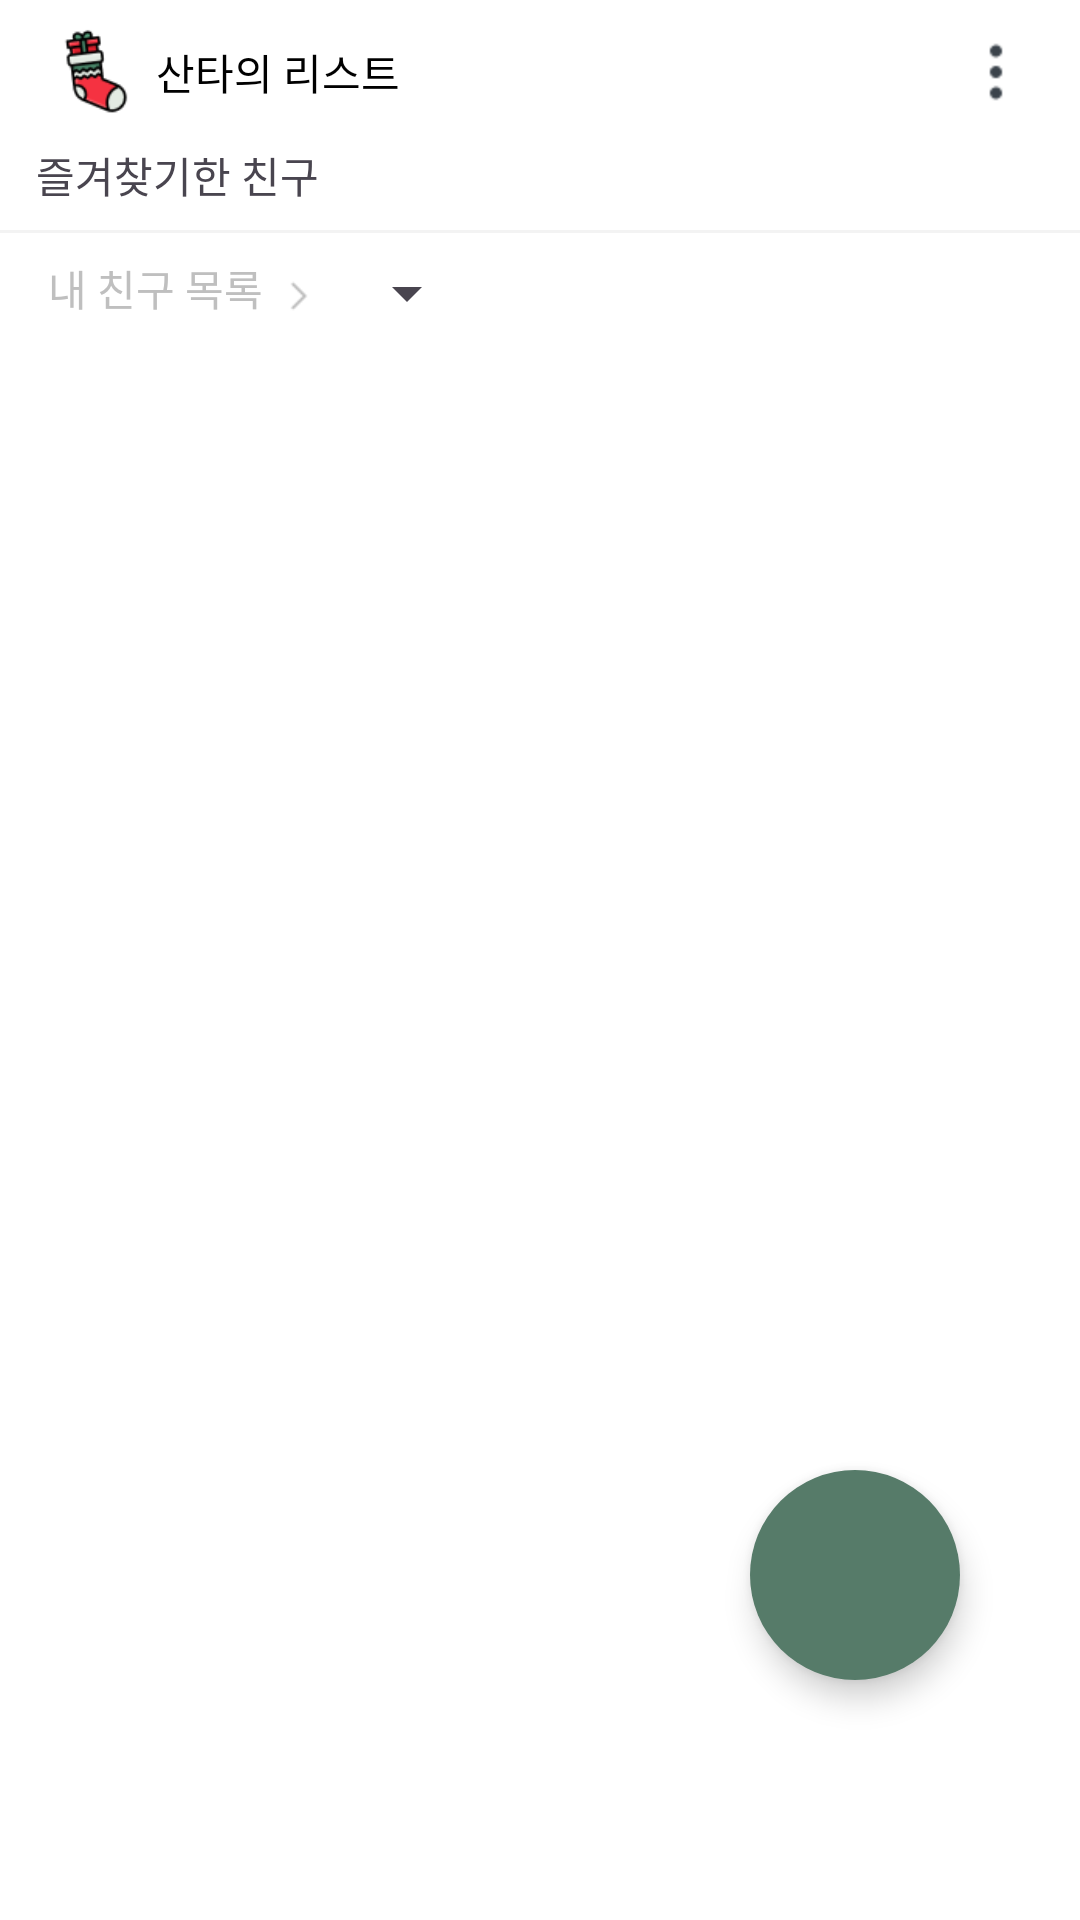

Named icons in this screenshot (1080x1920) and their centers, [x,y]:
action: [996,72]
arrow right: [298,296]
